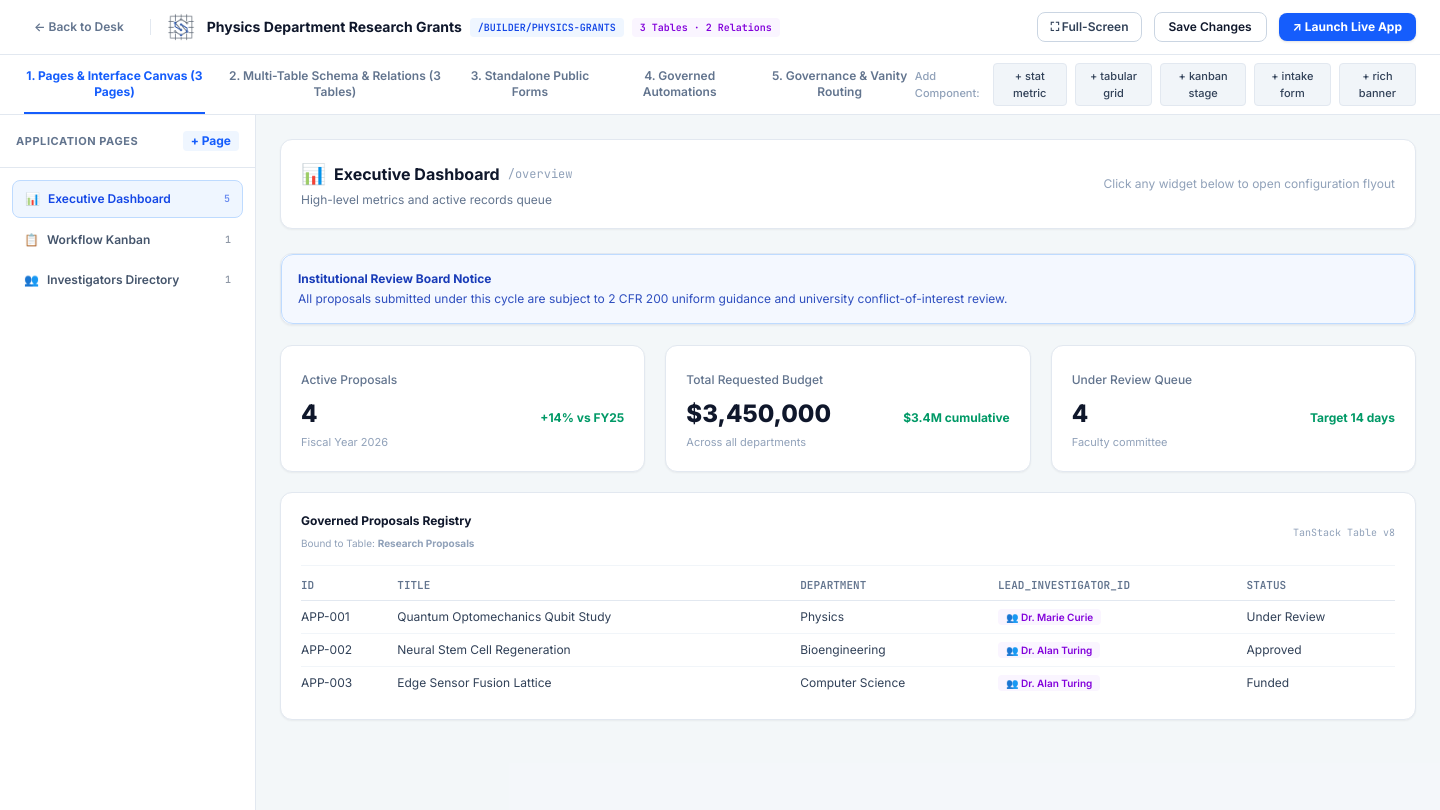
AppBuilder Usability & Interactive Component Canvas › renders full-page builder with top bar and switches between tabs
Expected: the heading "Physics Department Research Grants" is shown, [207,17,462,37]
Expected: the text "/builder/physics-grants" is shown, [470,18,624,36]
# Switch to Settings tab
Click the button with test id "tab-btn-settings" at (840, 84), box [764,56,915,114]
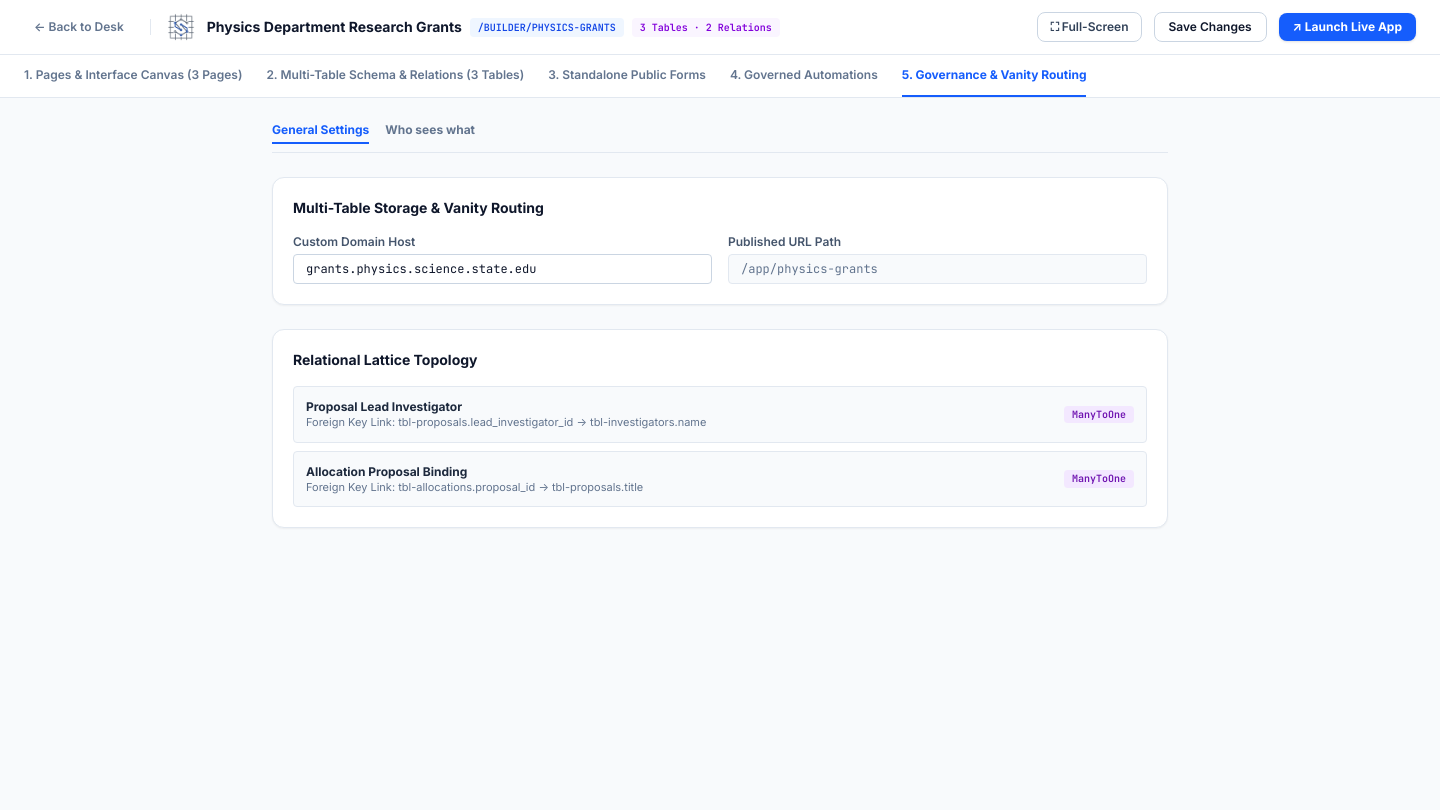
Expected: the heading "Multi-Table Storage & Vanity Routing" is shown, [293,199,544,216]
Expected: the heading "Relational Lattice Topology" is shown, [293,351,478,368]
# Switch back to Pages tab
Click the button with test id "tab-btn-pages" at (133, 76), box [24,55,242,97]
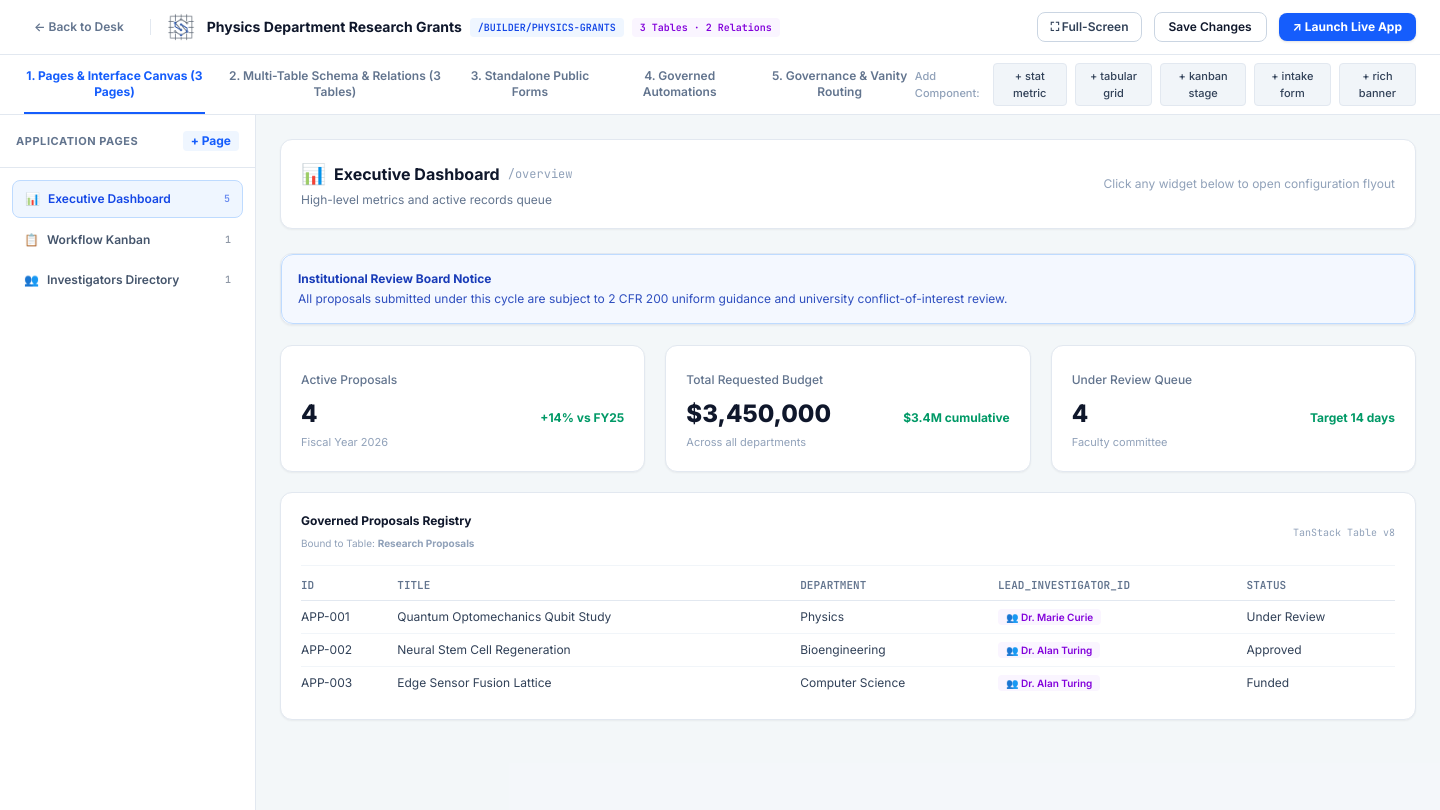
Expected: the text "Application Pages" is shown, [16,133,138,149]
